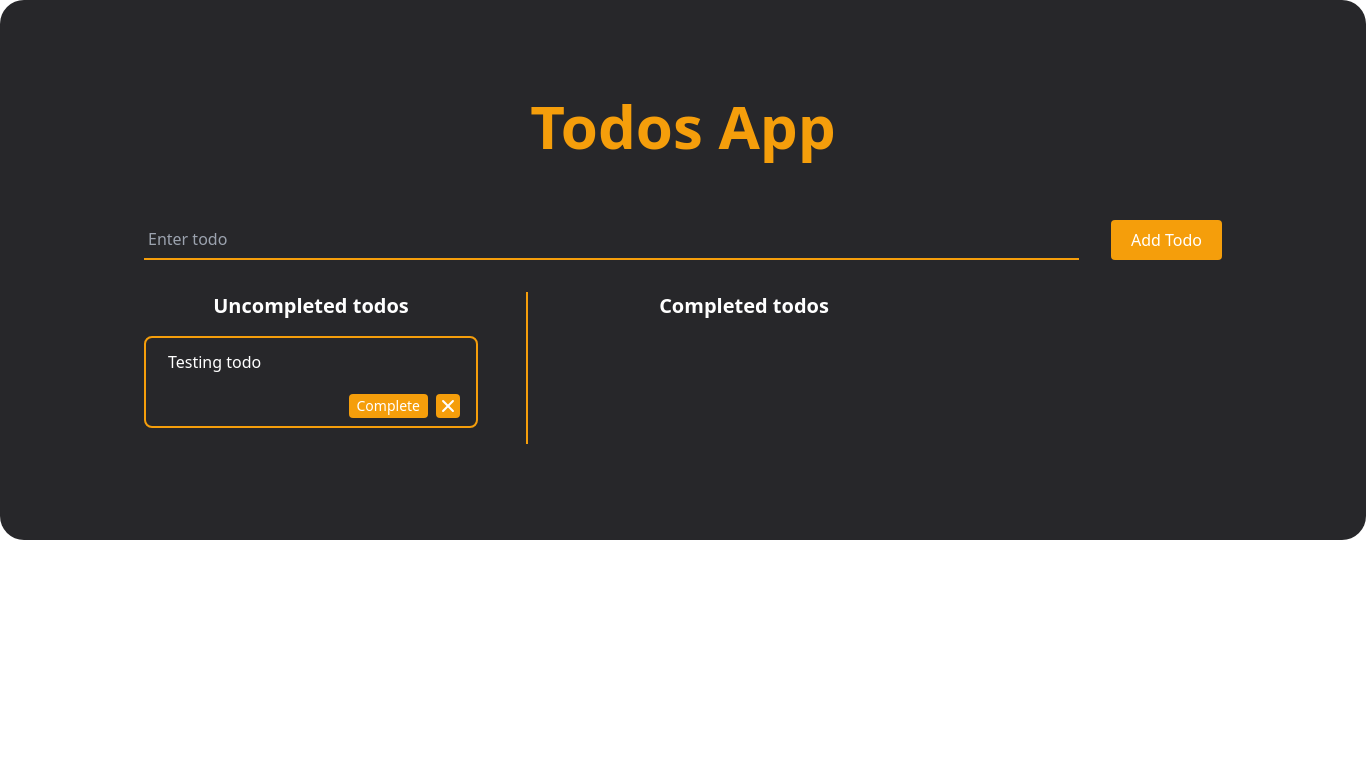
Scenario: Deleting todo
expect the text "Testing todo" is shown: met, box [162,346,267,378]
Click the element with test id "delete-icon". click: point(448, 406)
box: [436,394,460,418]
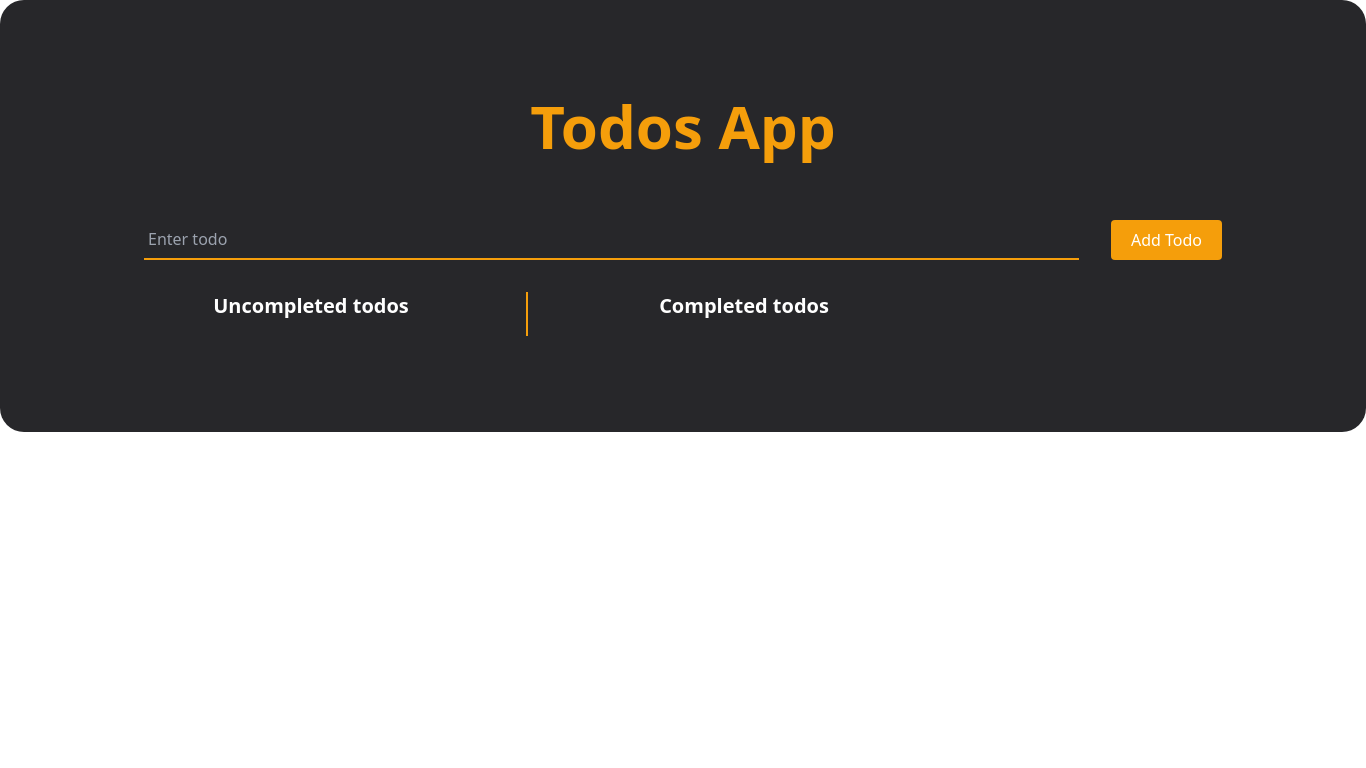
expect the text "Testing todo" is gone: met
